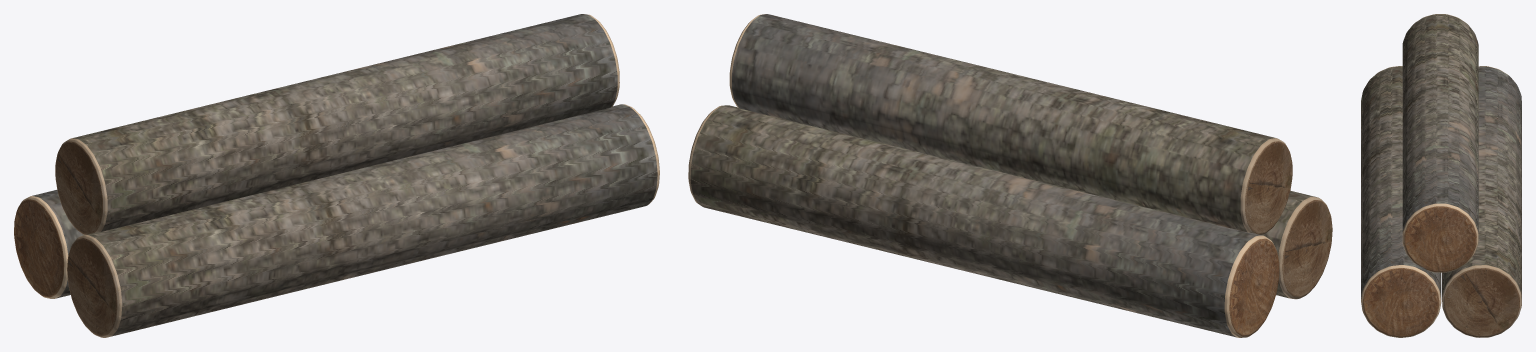
The model's file is Long Log Pile full cover.fbx.
The picture shows the model from 3 angles, left to right: view 1: azimuth 30°, elevation 25°; view 2: azimuth 150°, elevation 25°; view 3: azimuth 270°, elevation 25°; orthographic projection. The views are drawn at different scales.
Parts seen in each view (by area): view 1: Log_Pile; view 2: Log_Pile; view 3: Log_Pile.
Part boxes in pixels (x1=…): Log_Pile: x1=14, y1=14, x2=659, y2=337; Log_Pile: x1=688, y1=14, x2=1332, y2=337; Log_Pile: x1=1361, y1=14, x2=1521, y2=337.
Size of the model in its own units: 11.83 by 3.54 by 3.99.
1 material, 1 textured.
